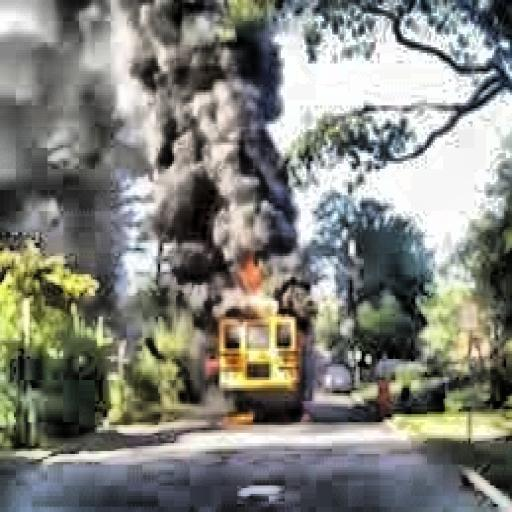fire: (210, 248, 300, 314)
